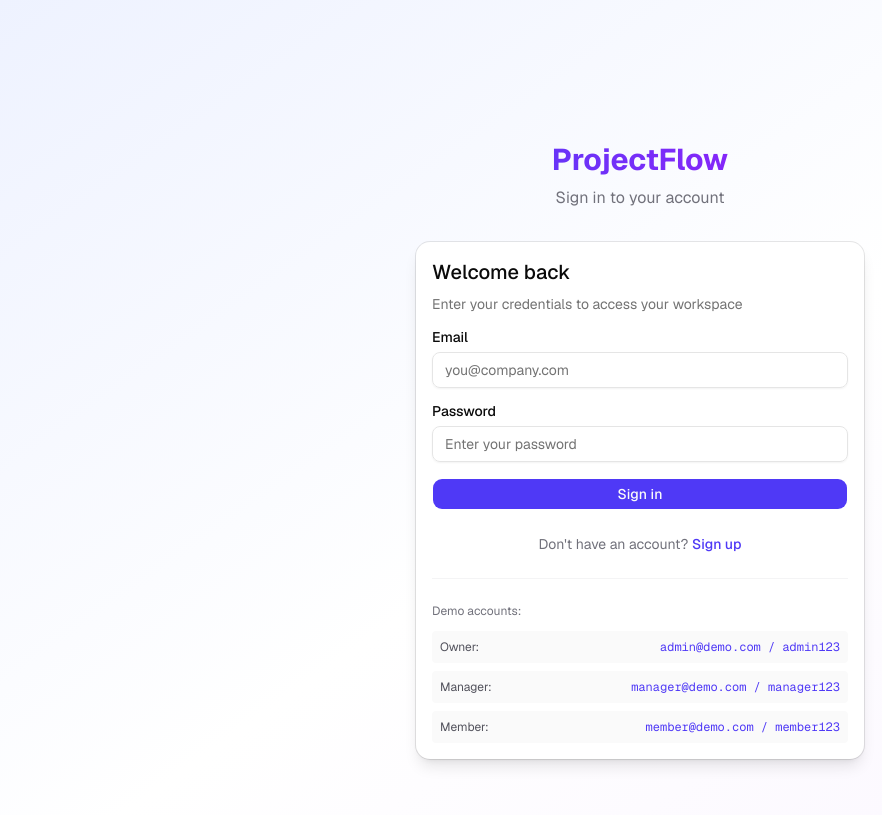
LoginPage › shows error message on login failure
In the field labelled "Email": (640, 370) [432,352,848,388], type "bad@email.com"
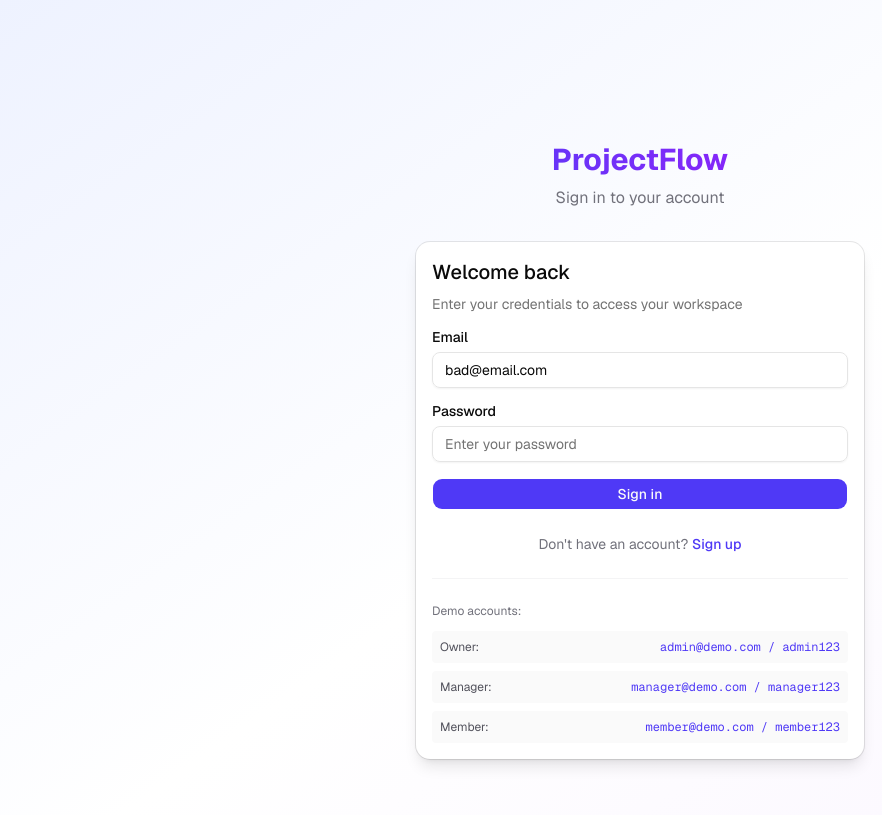
In the password field labelled "Password": (640, 444) [432,426,848,462], type "wrong"
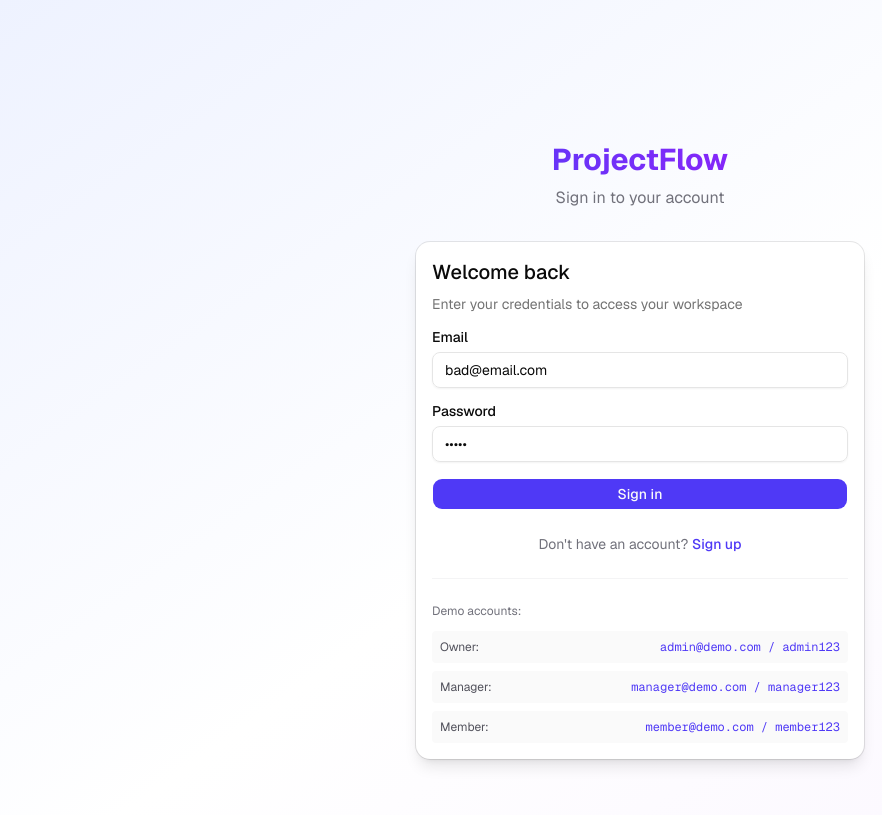
Click the button "Sign in": (640, 494) [432,478,848,510]
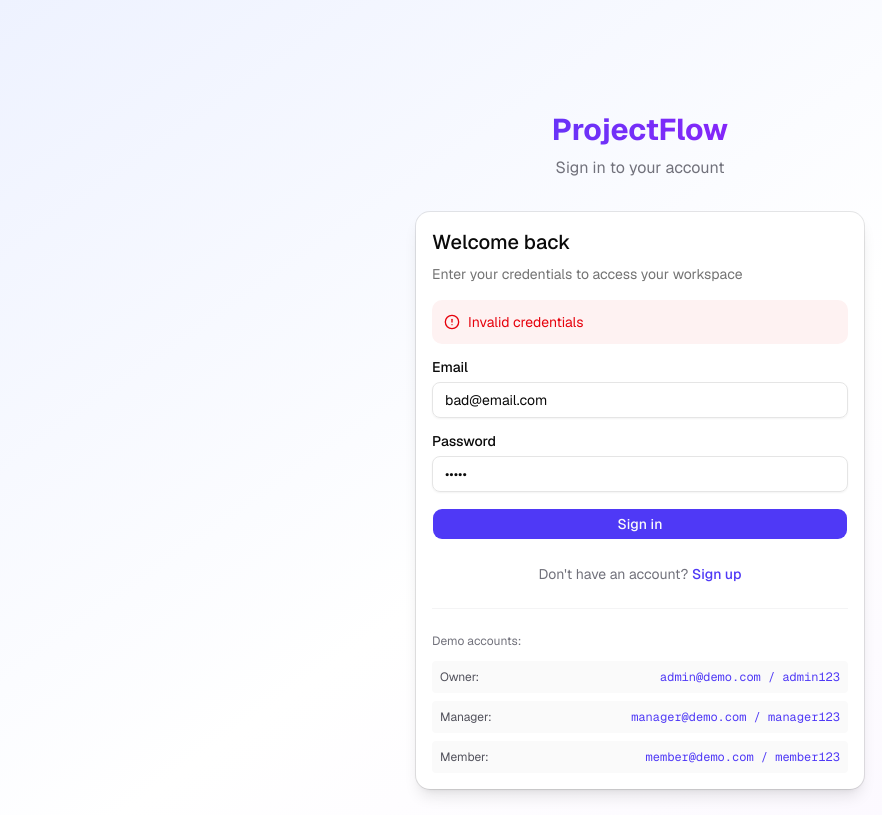
Expected: the text "Invalid credentials" is shown, [432,300,848,344]
